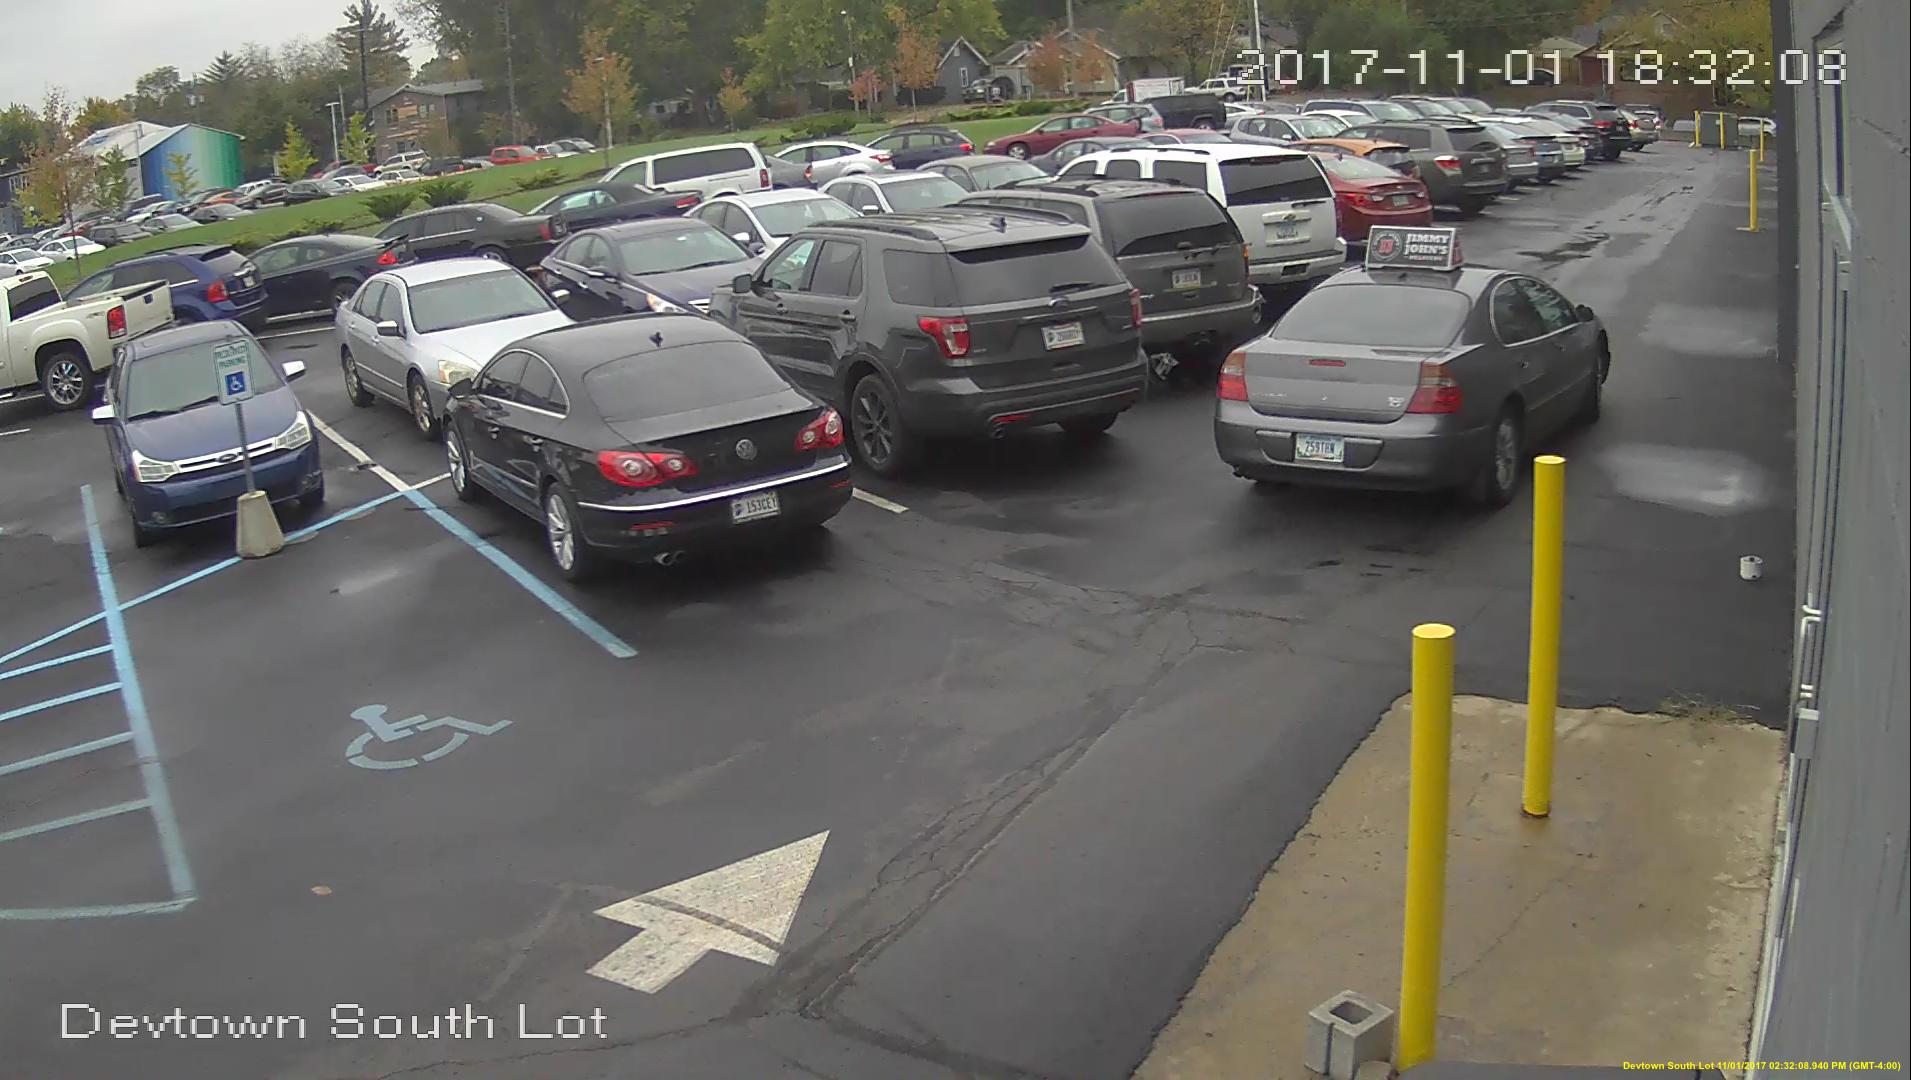jimmy_johns: (1360, 224, 1467, 277)
